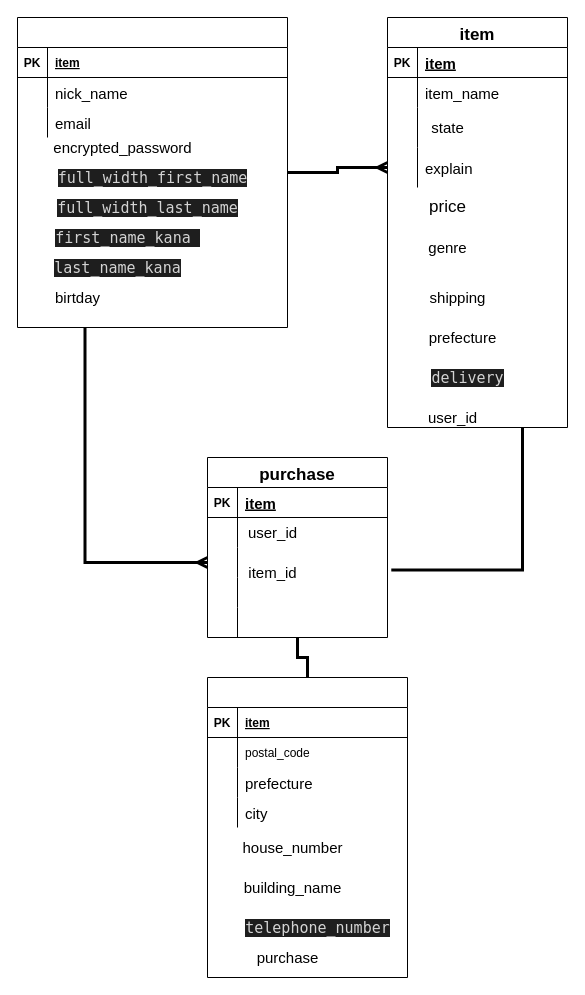
This 585x995 diagram has some shape labels left out. The box of each missing label's shape, as (x1, y1, x2, y2) in pixels:
address: (206, 676, 408, 978)
user: (16, 16, 288, 328)
